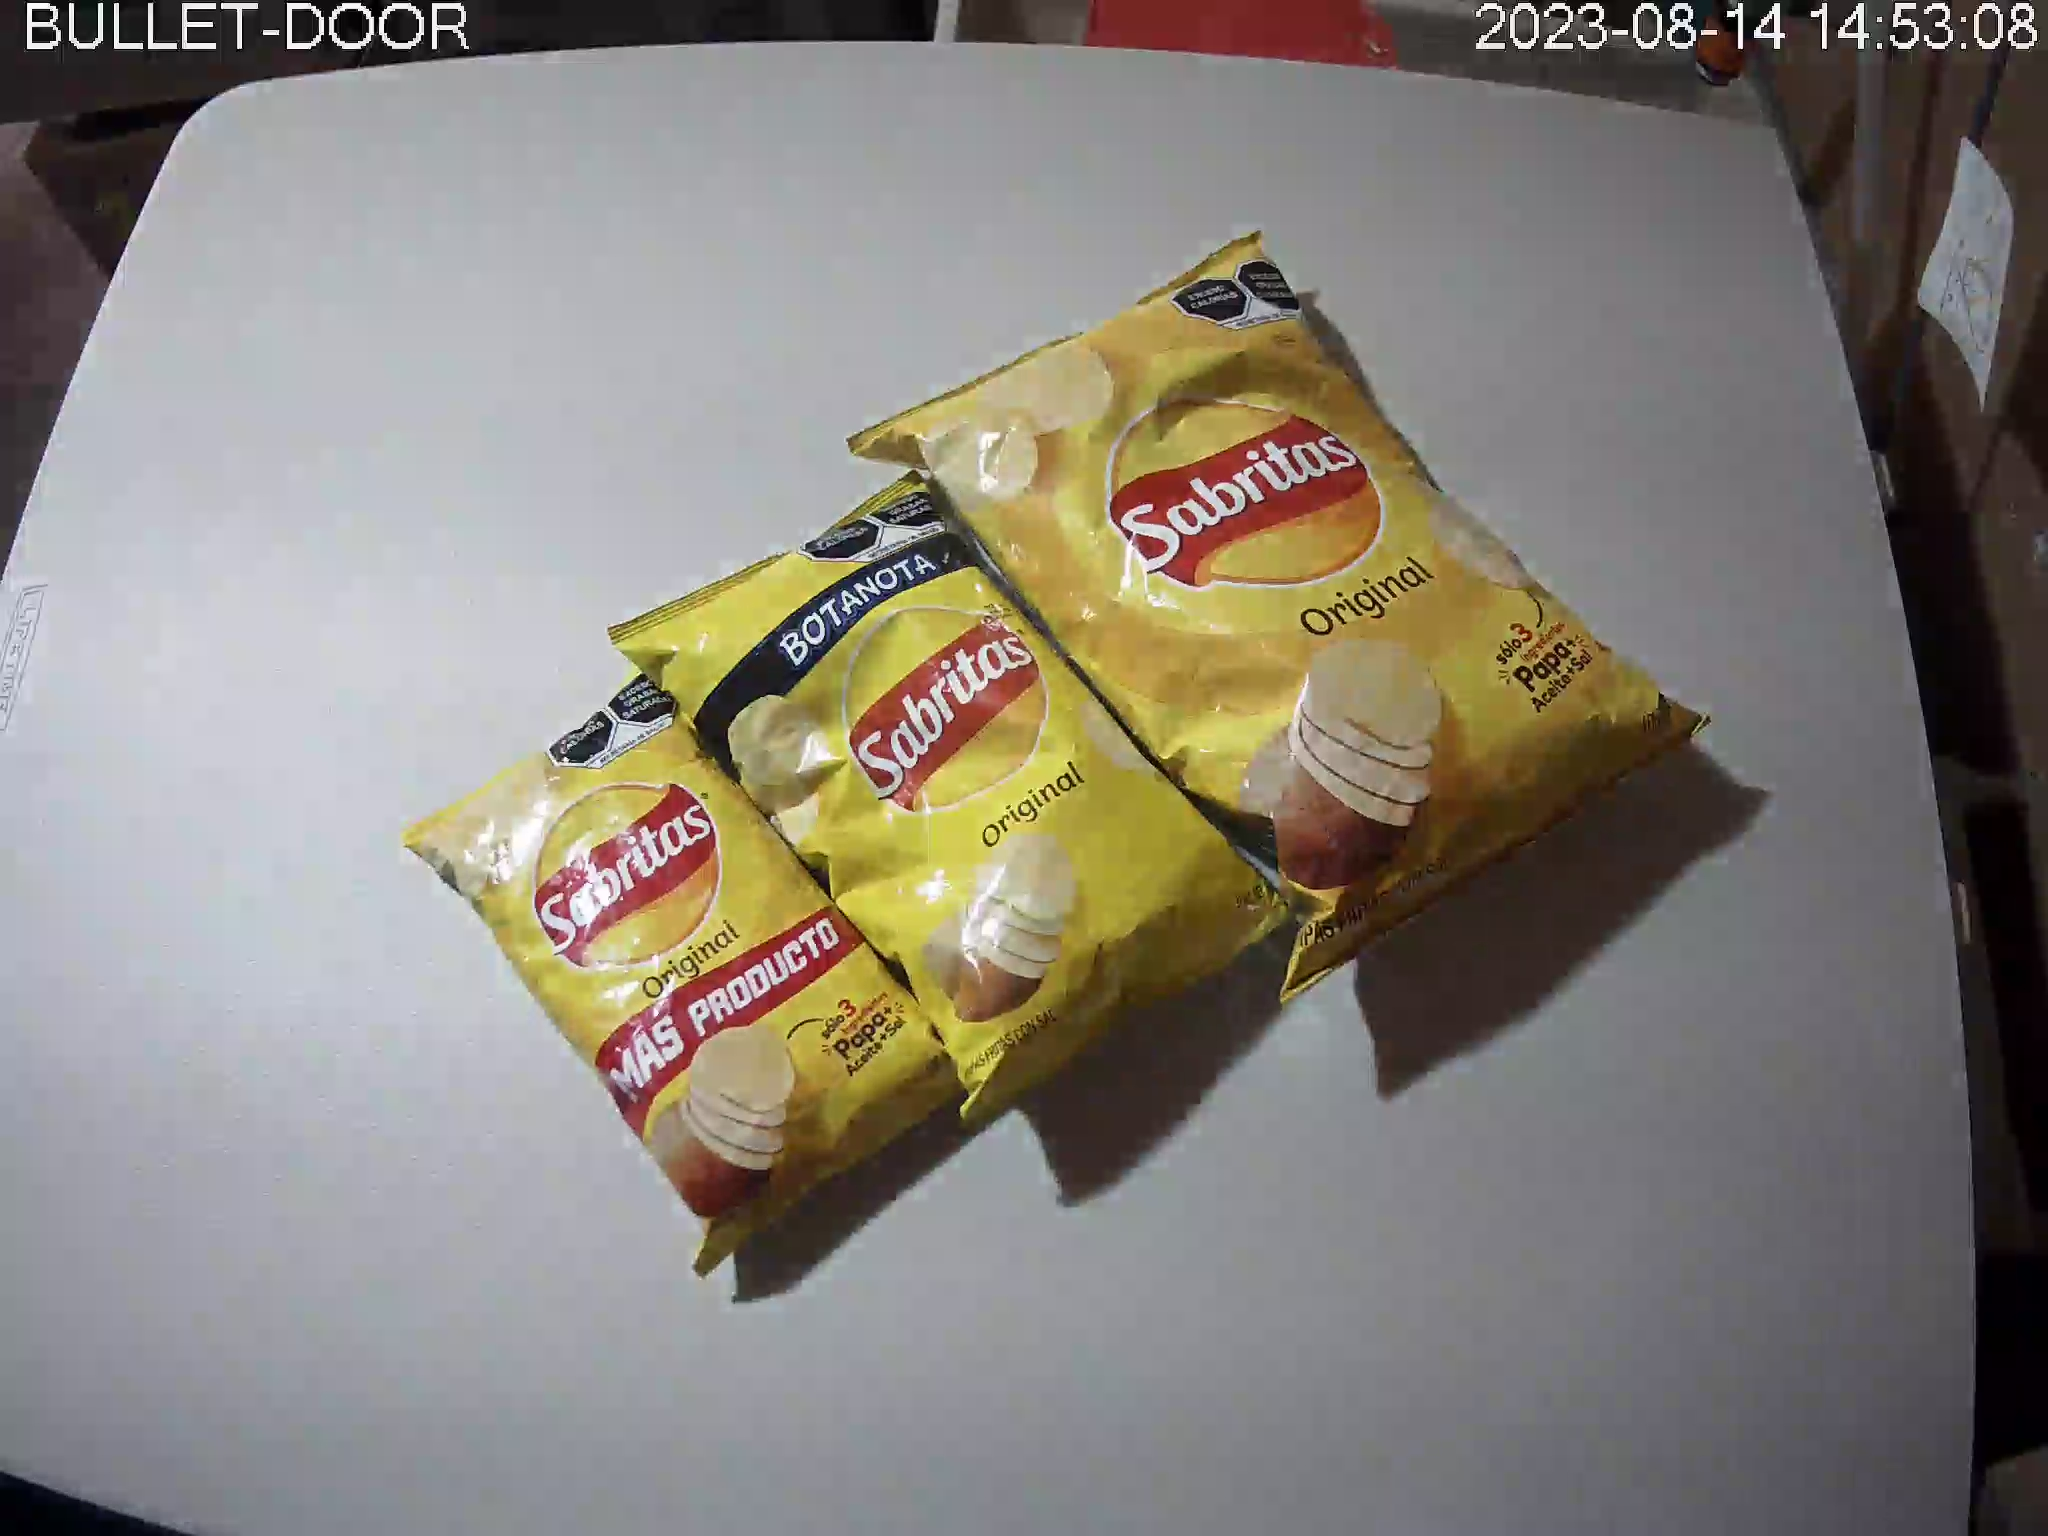Sabritas_160_F: (845, 231, 1717, 1004)
Sabritas_45_F: (402, 655, 989, 1276)
Sabritas_64_F: (610, 465, 1298, 1131)
